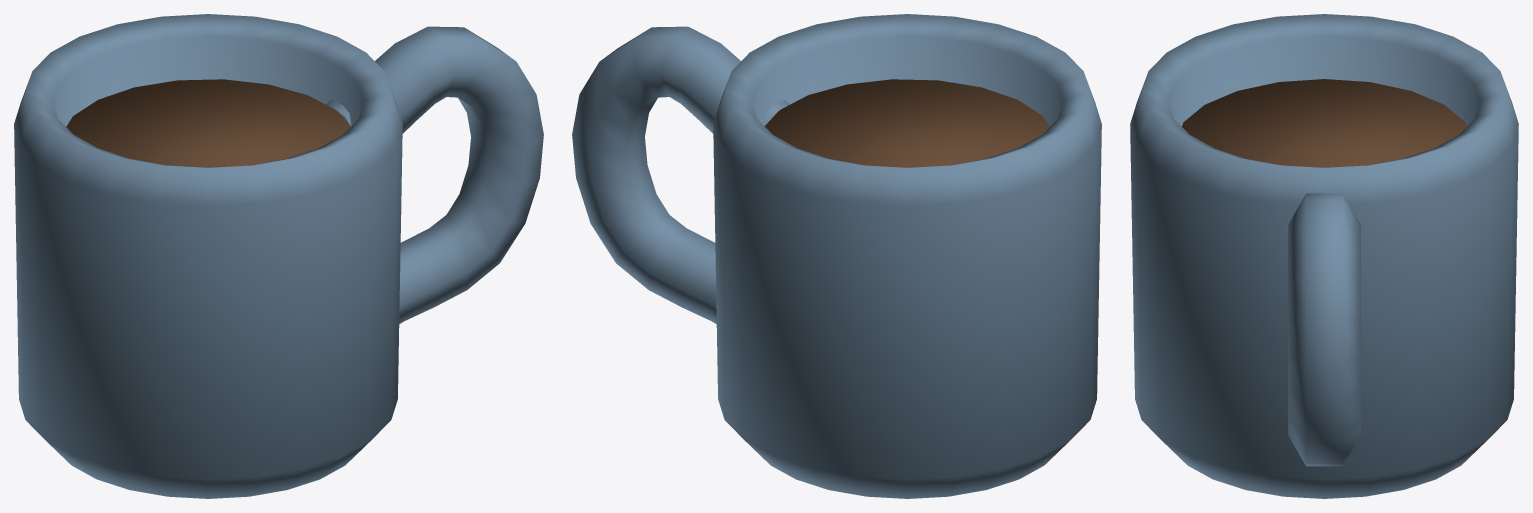
The model's file is mug.glb.
3 views of the same model, side by side, from view 1: azimuth 30°, elevation 25°; view 2: azimuth 150°, elevation 25°; view 3: azimuth 270°, elevation 25° (orthographic).
Parts seen in each view (by area): view 1: House_mug; view 2: House_mug; view 3: House_mug.
Part boxes in pixels (x1,y1,x2,y2): House_mug: (14, 14, 543, 498); House_mug: (572, 14, 1101, 498); House_mug: (1130, 14, 1518, 498).
Bounding box in the file's own units: 0.2351 × 0.1559 × 0.16.
